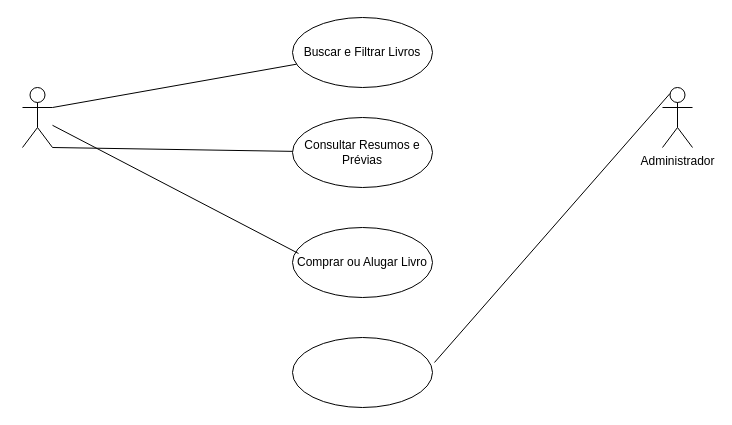
Some shapes in this 732 by 425 pixel diagram are drawn without their labels. The centre of each missing label's shape, as x and y in pixels:
Gerenciar Acervo: pixel 362 372
Usuário: pixel 37 117
